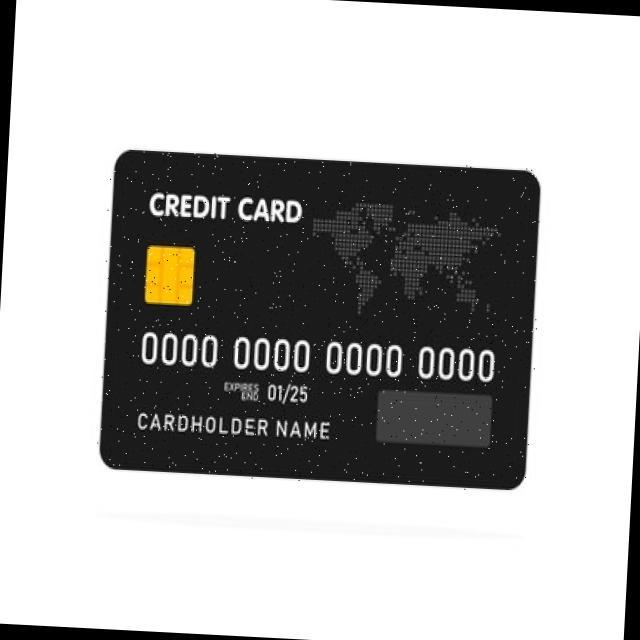payment_card: (98, 147, 540, 490)
